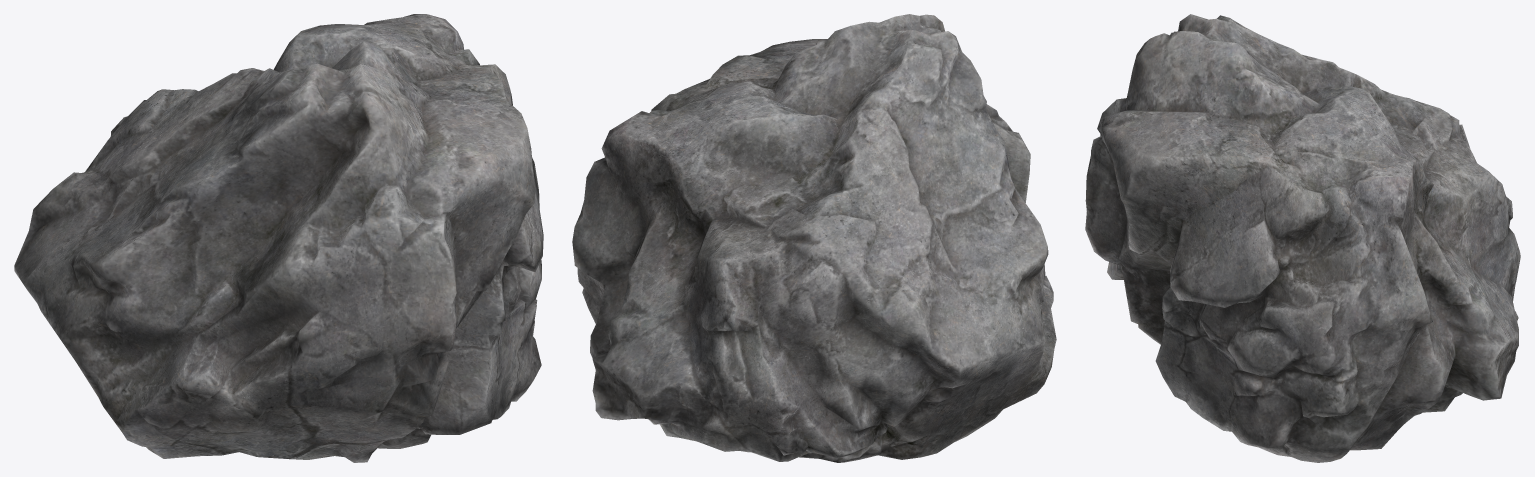
File: SM_Amseog_2.fbx
3 views of the same model, side by side, from view 1: azimuth 30°, elevation 25°; view 2: azimuth 150°, elevation 25°; view 3: azimuth 270°, elevation 25° (orthographic). The views are drawn at different scales.
Parts seen in each view (by area): view 1: SM_Amseog_2; view 2: SM_Amseog_2; view 3: SM_Amseog_2.
Boxes of the visible parts, x1,y1,x2,y2 form: SM_Amseog_2: (14, 14, 543, 462); SM_Amseog_2: (572, 14, 1056, 462); SM_Amseog_2: (1085, 14, 1520, 462).
Size of the model in its own units: 258 by 234 by 214.
Materials: 1 (1 with a texture image).
